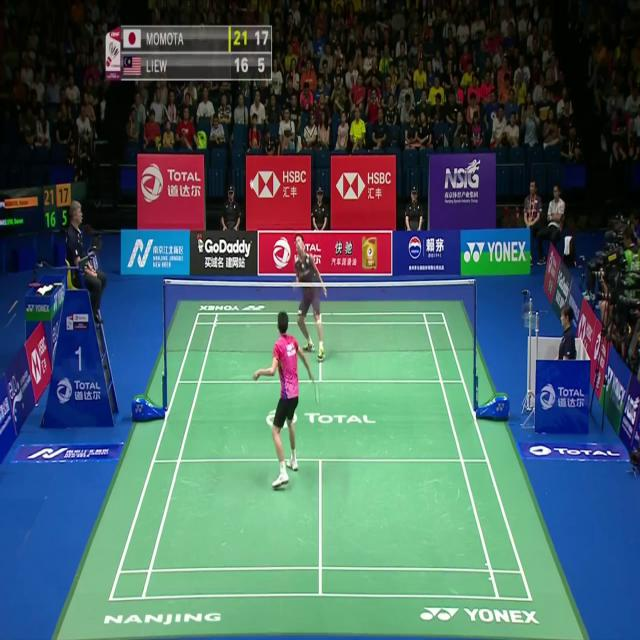Shuttlecock: (248, 179, 255, 191)
